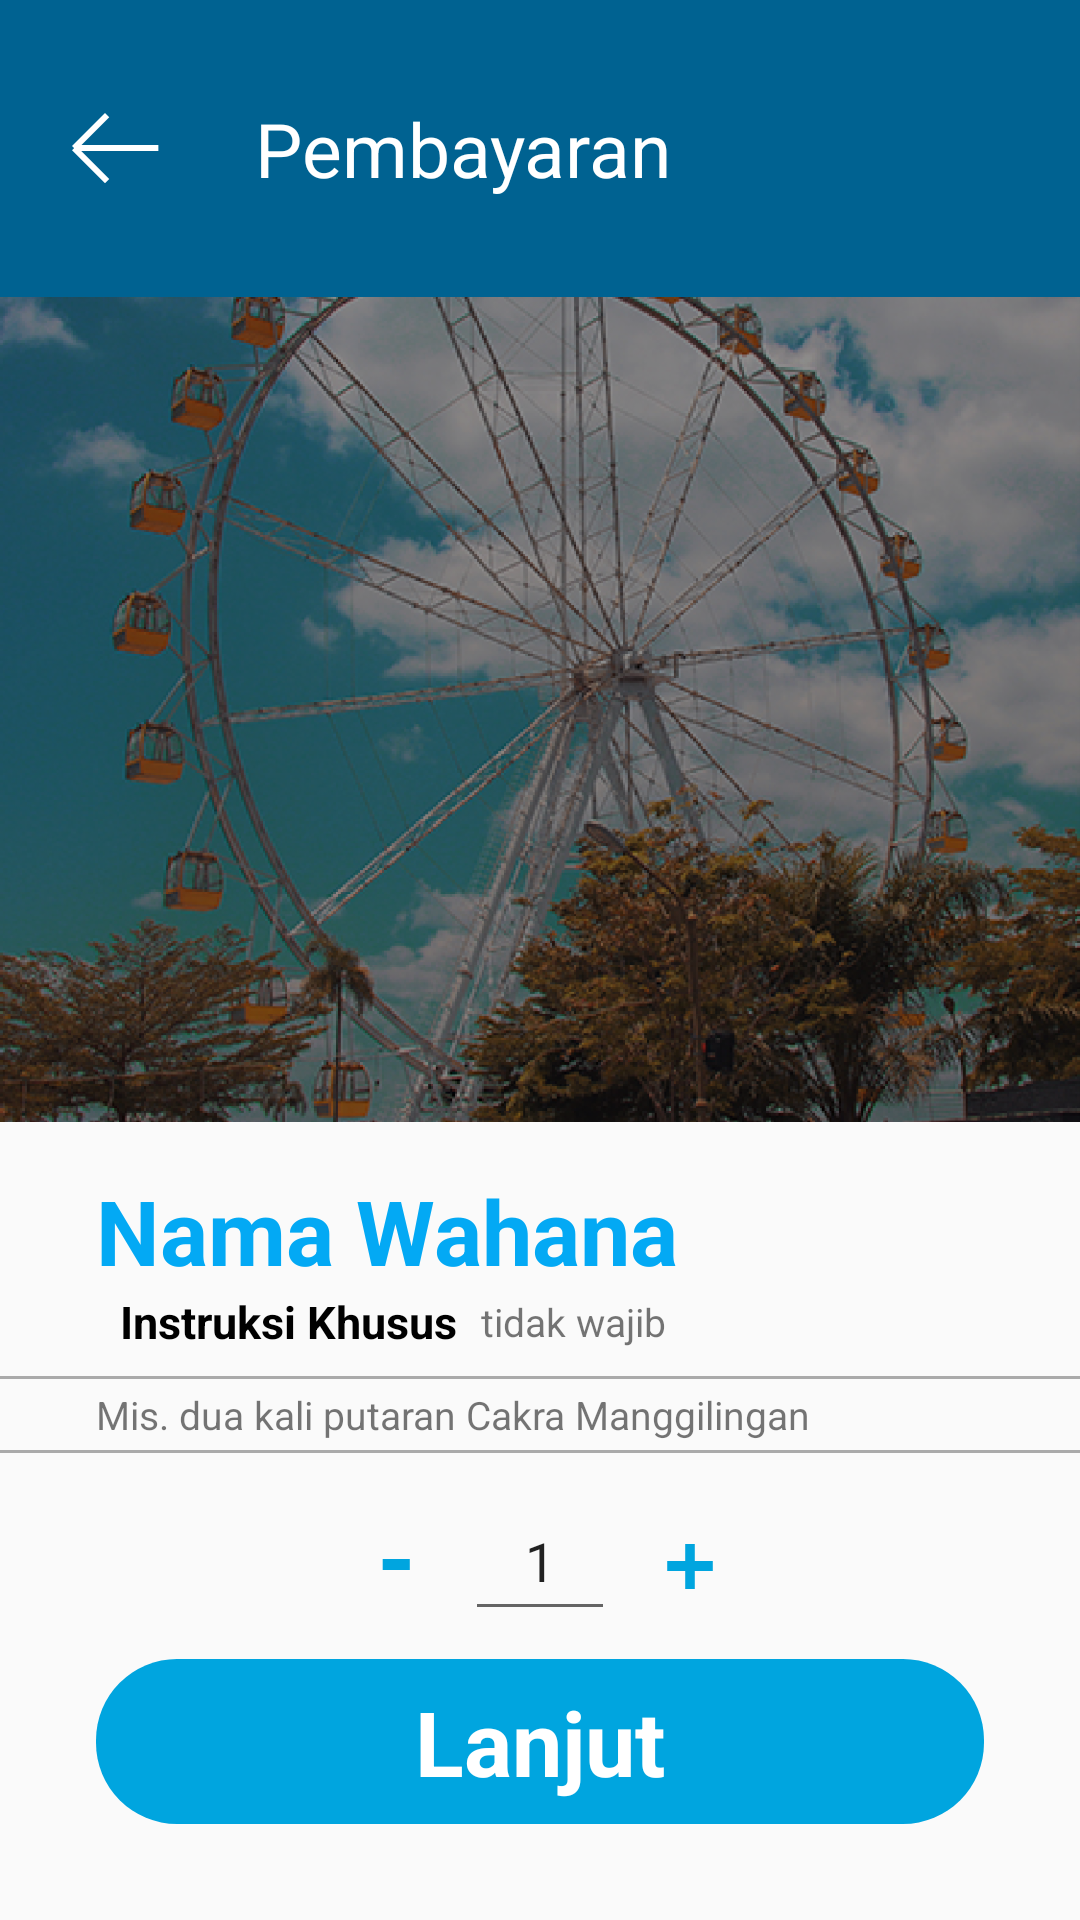

Point at icon controls on the screen. Image size 1080px×1920px, points as [x,y].
back: [115,148]
negative: [396,1564]
plus: [690,1566]
